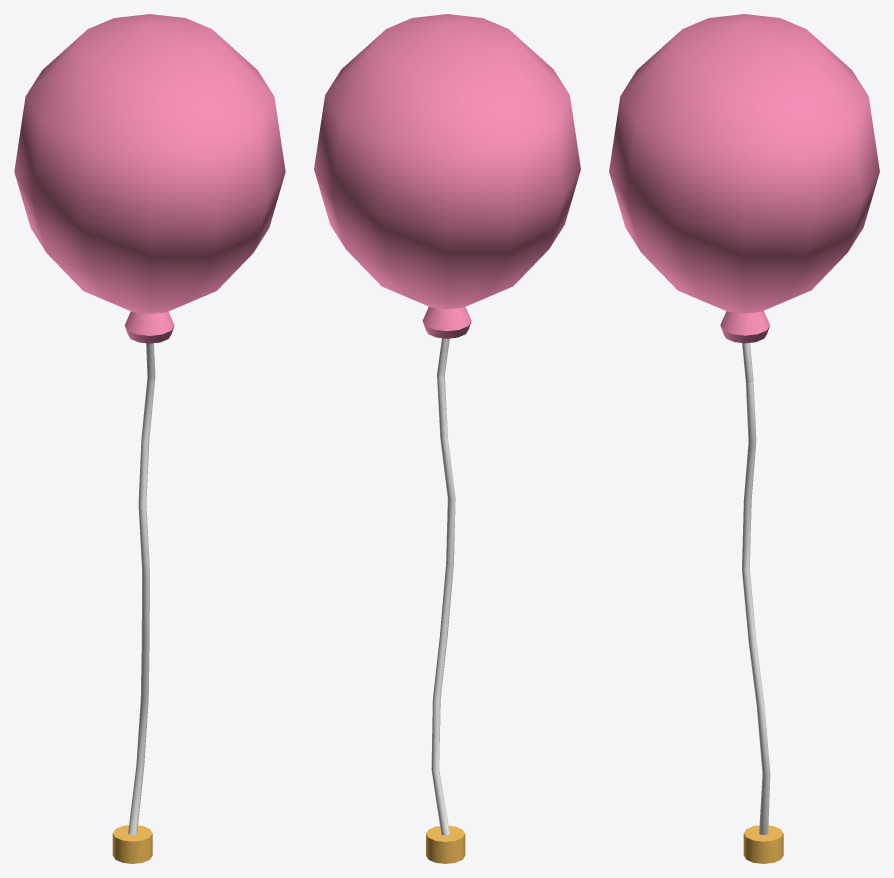
File: Pungsun1-4.fbx
The picture shows the model from 3 angles, left to right: view 1: azimuth 30°, elevation 25°; view 2: azimuth 150°, elevation 25°; view 3: azimuth 270°, elevation 25°; orthographic projection.
Visible parts, largest first — view 1: Pungsun1-4; view 2: Pungsun1-4; view 3: Pungsun1-4.
Part boxes in pixels (x1,y1,x2,y2): Pungsun1-4: (14,14,285,863); Pungsun1-4: (314,14,580,863); Pungsun1-4: (609,14,879,863).
Size of the model in its own units: 0.2115 by 0.7189 by 0.2115.
